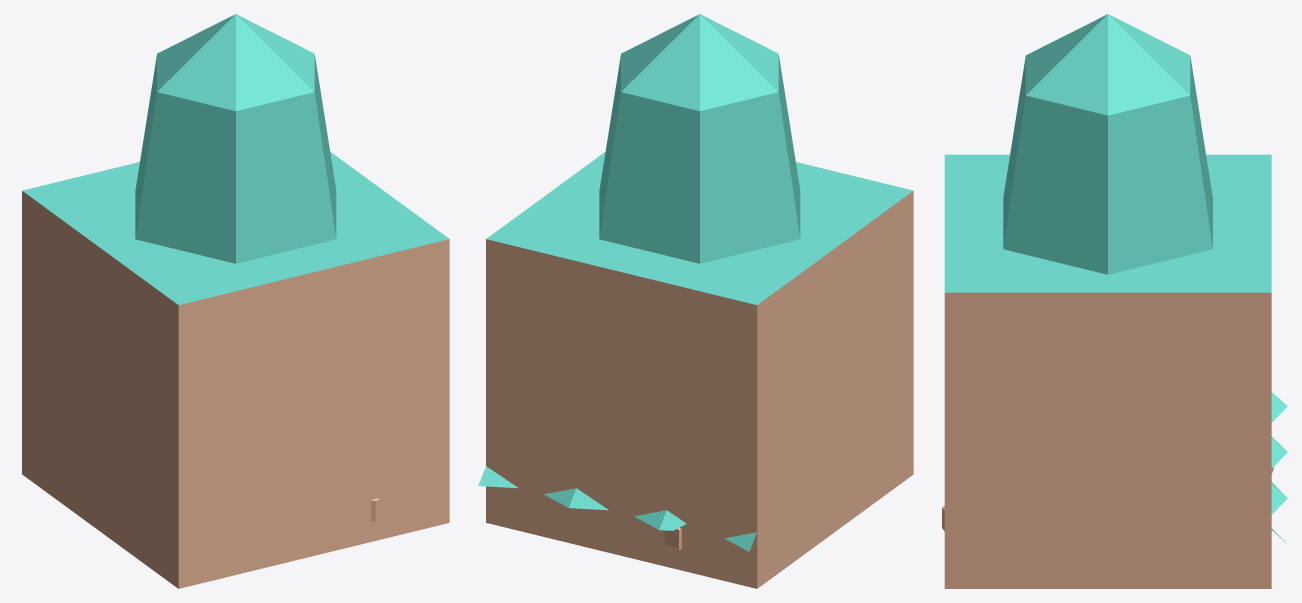
File: world-forest.glb
3 views of the same model, side by side, from view 1: azimuth 30°, elevation 25°; view 2: azimuth 150°, elevation 25°; view 3: azimuth 270°, elevation 25° (orthographic). The views are drawn at different scales.
Parts seen in each view (by area): view 1: cliff_block_rock, cliff_blockHalf_rock, tree_default, cliff_steps_rock, cliff_top_rock; view 2: cliff_block_rock, cliff_blockHalf_rock, tree_default, cliff_steps_rock, cliff_top_rock; view 3: cliff_block_rock, tree_default, cliff_steps_rock, cliff_blockHalf_rock, cliff_top_rock.
Part boxes in pixels (box(x1,y1,x2,y2)): cliff_block_rock: box(22, 152, 449, 588); cliff_blockHalf_rock: box(22, 333, 449, 588); tree_default: box(135, 14, 336, 263); cliff_steps_rock: box(22, 216, 448, 587); cliff_top_rock: box(152, 236, 442, 588); cliff_block_rock: box(486, 152, 913, 588); cliff_blockHalf_rock: box(486, 333, 913, 588); tree_default: box(599, 14, 800, 263); cliff_steps_rock: box(478, 162, 913, 586); cliff_top_rock: box(796, 163, 913, 492); cliff_block_rock: box(944, 154, 1271, 588); tree_default: box(1003, 14, 1212, 274); cliff_steps_rock: box(944, 154, 1287, 586); cliff_blockHalf_rock: box(945, 441, 1271, 588); cliff_top_rock: box(944, 154, 999, 588).
Bounding box in the file's own units: 1 × 1.71 × 1.06.
